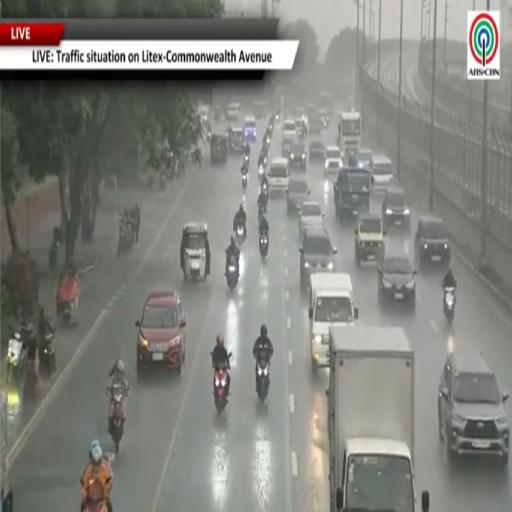car: (438, 349, 509, 467), (136, 291, 186, 373), (300, 227, 337, 289), (378, 252, 416, 305), (415, 216, 450, 266), (355, 213, 385, 265), (382, 186, 410, 231), (299, 201, 324, 241), (370, 154, 395, 190), (267, 157, 290, 196), (287, 178, 310, 215), (289, 140, 306, 171), (325, 147, 342, 177), (308, 141, 326, 163), (228, 127, 243, 152), (243, 117, 257, 143), (357, 149, 372, 169), (227, 103, 241, 123), (283, 120, 297, 140), (309, 116, 323, 135), (295, 118, 308, 138), (318, 109, 330, 129), (198, 105, 209, 124), (282, 139, 293, 157), (306, 104, 317, 121), (294, 106, 306, 120)
motorcycle: (107, 383, 127, 453), (57, 276, 79, 326), (6, 332, 25, 382), (84, 478, 108, 511), (39, 330, 56, 375), (214, 365, 229, 413), (23, 359, 38, 403), (256, 359, 269, 403), (117, 222, 134, 255), (226, 256, 239, 291), (444, 287, 455, 324), (48, 239, 58, 273), (84, 500, 108, 511), (259, 232, 268, 258), (236, 223, 245, 248), (258, 203, 266, 225), (260, 182, 268, 200), (160, 173, 167, 190), (258, 165, 264, 180), (243, 154, 249, 166), (242, 174, 247, 188), (265, 135, 270, 146), (207, 131, 211, 142), (275, 112, 279, 121), (264, 156, 267, 167)
truck: (327, 326, 417, 511), (309, 274, 358, 372), (334, 166, 372, 221), (338, 109, 362, 153)
